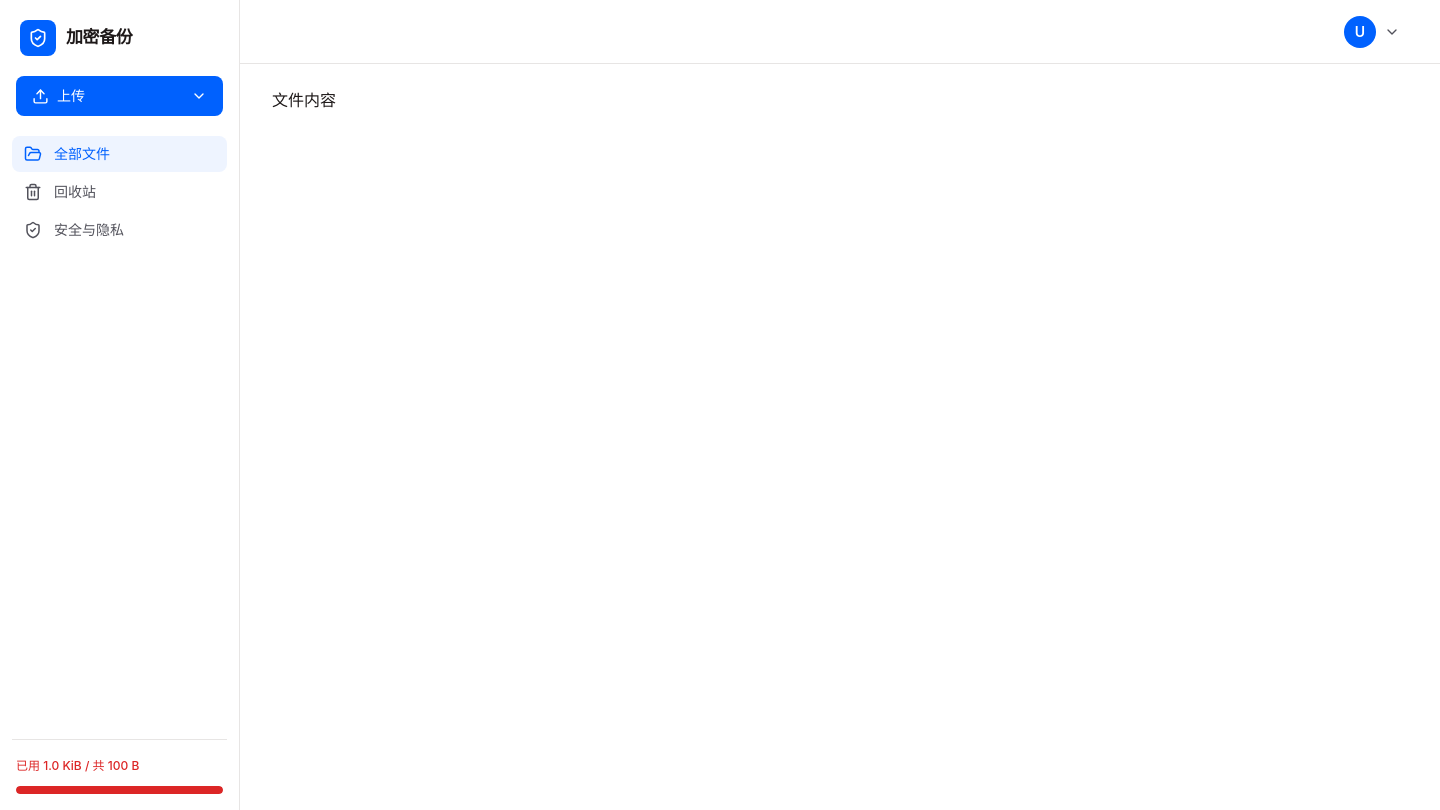
Test case: AppShell › 点击侧边栏“回收站”切换视图并更新选中态
The image size is (1440, 810).
Click the link with test id "open-trash" at x=60, y=192, box [24, 183, 96, 201]
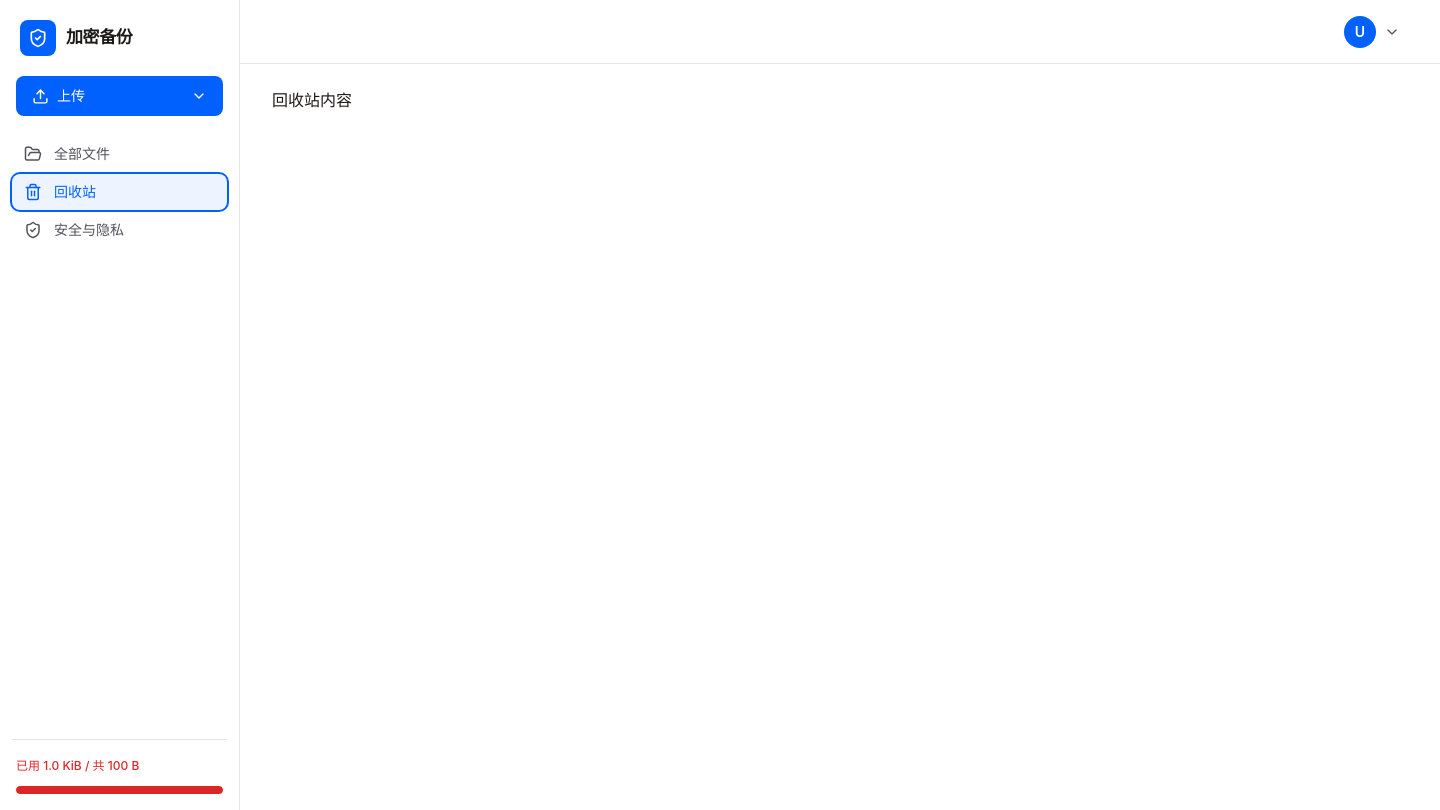
Expected: the text "回收站内容" is shown, [272, 90, 352, 110]
